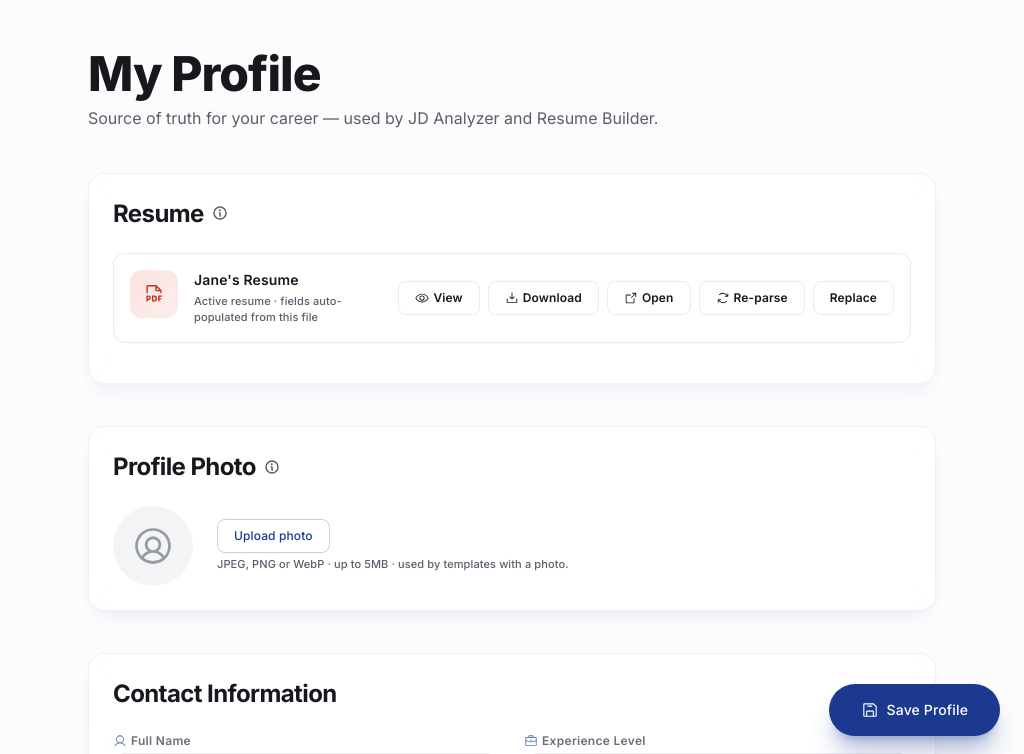
Test case: My Profile — resume re-parse & unsaved-changes guard › takes every offered detail at once with Use all
What coordinates should you click on to do the following:
click the button "Re-parse"
I would click on:
 (752, 298)
Its box is [698,281,805,315].
(page scrolled)
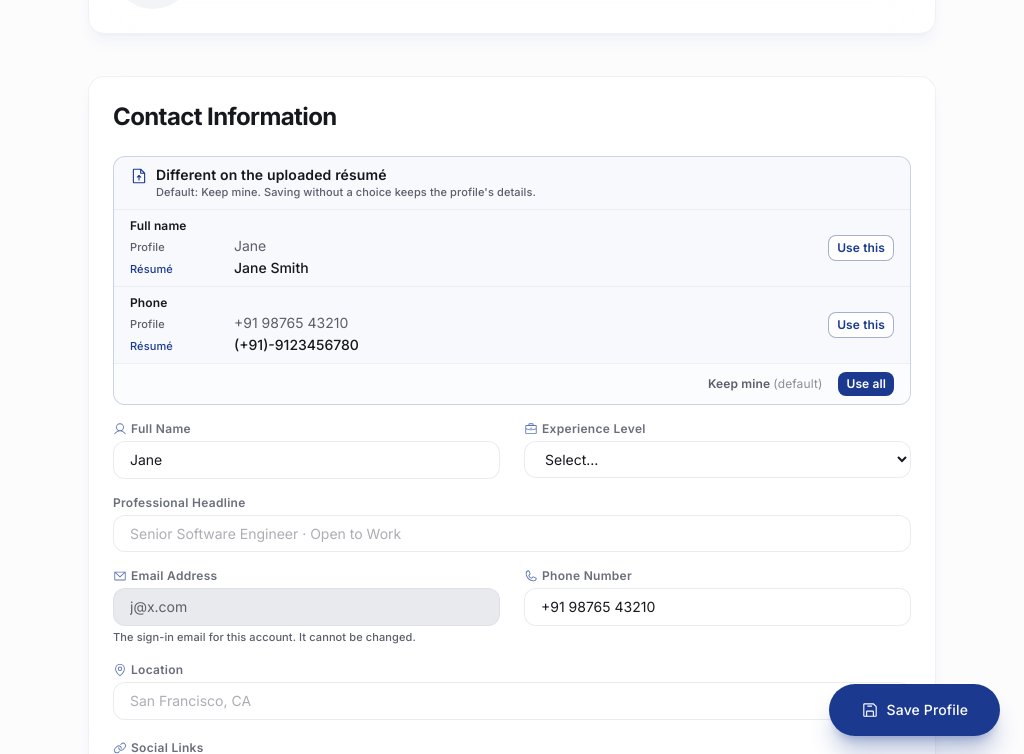
What coordinates should you click on to do the following:
click the button "Use all"
I would click on:
 (866, 384)
Its box is [838,372,894,396].
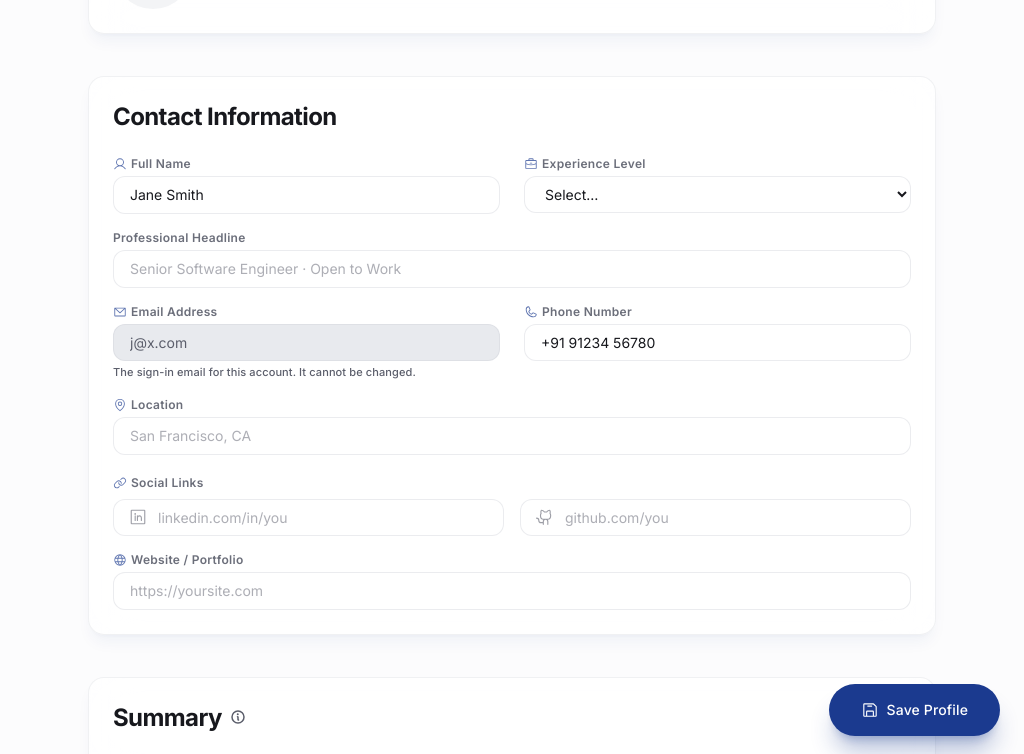
Check: the field with placeholder "Jane Smith" holds "Jane Smith", box [113,176,500,214]
Check: the field named "Phone number" holds "+91 91234 56780", box [524,324,911,361]
